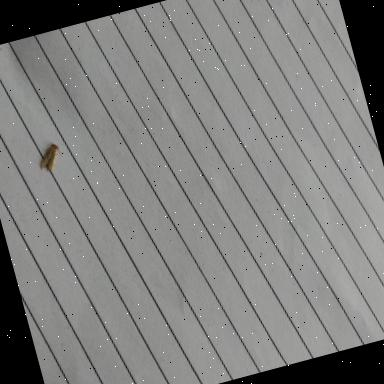abw: (36, 140, 68, 174)
